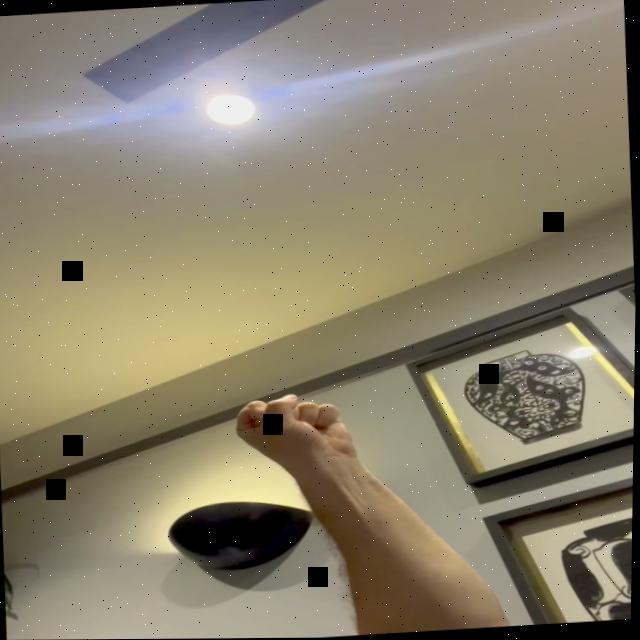Rock: (235, 389, 356, 466)
